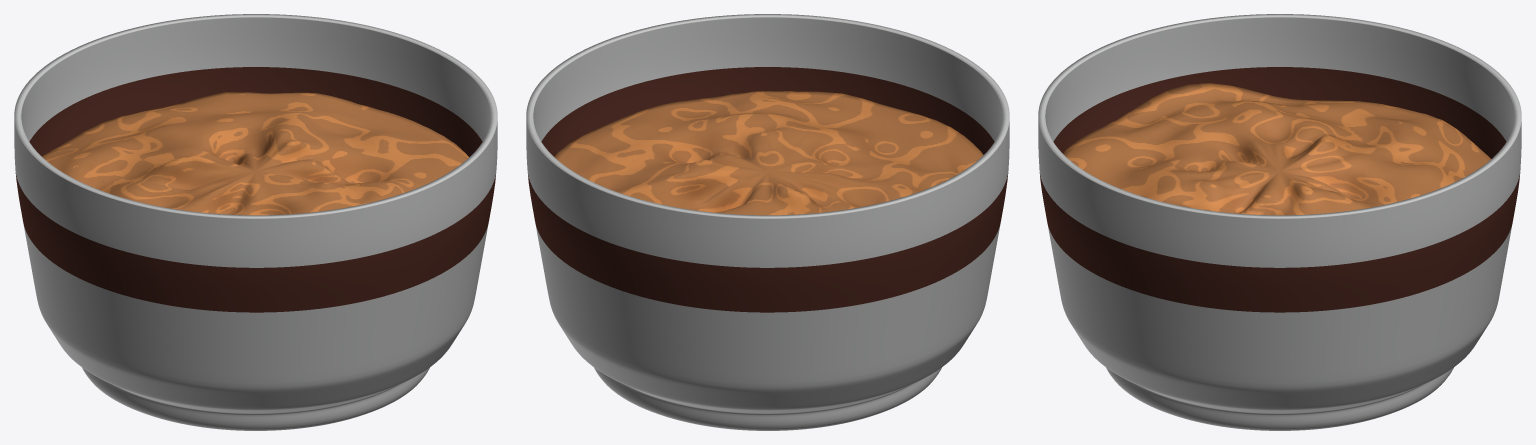
File: sambalkacang.fbx
The picture shows the model from 3 angles, left to right: view 1: azimuth 30°, elevation 25°; view 2: azimuth 150°, elevation 25°; view 3: azimuth 270°, elevation 25°; orthographic projection.
Visible parts, largest first — view 1: bowl, sambalkacang; view 2: bowl, sambalkacang; view 3: bowl, sambalkacang.
Part boxes in pixels (box(x1,y1,x2,y2)): bowl: box(14, 14, 497, 430); sambalkacang: box(42, 92, 469, 215); bowl: box(526, 14, 1009, 430); sambalkacang: box(554, 91, 983, 215); bowl: box(1038, 14, 1521, 430); sambalkacang: box(1063, 83, 1490, 215).
Size of the model in its own units: 46.11 by 25.69 by 46.11.
3 materials, 1 textured.
